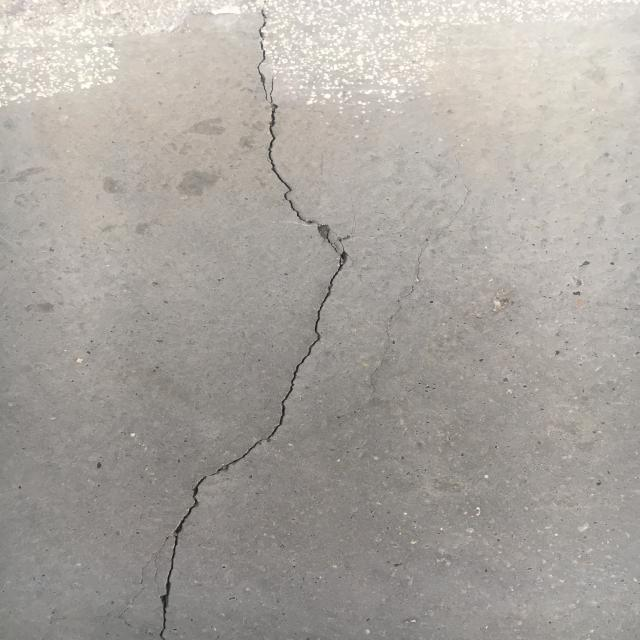Rachadura: (154, 0, 355, 640)
